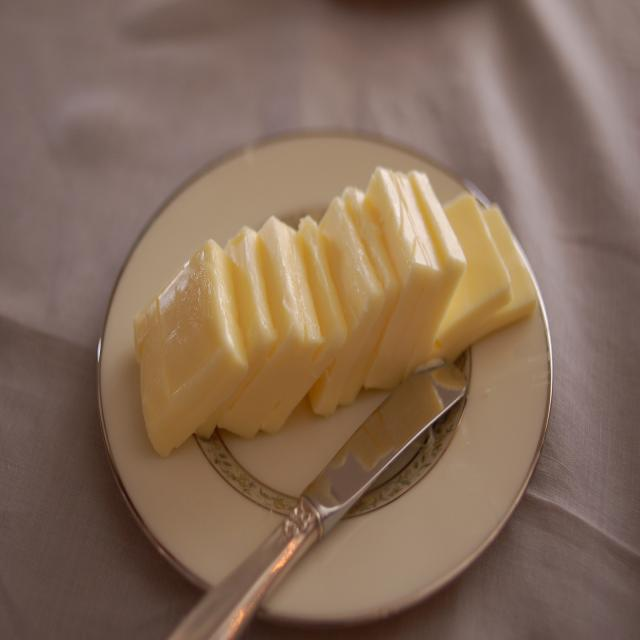Butter: (359, 165, 464, 385), (224, 213, 312, 439), (140, 237, 235, 440), (428, 184, 528, 364)
